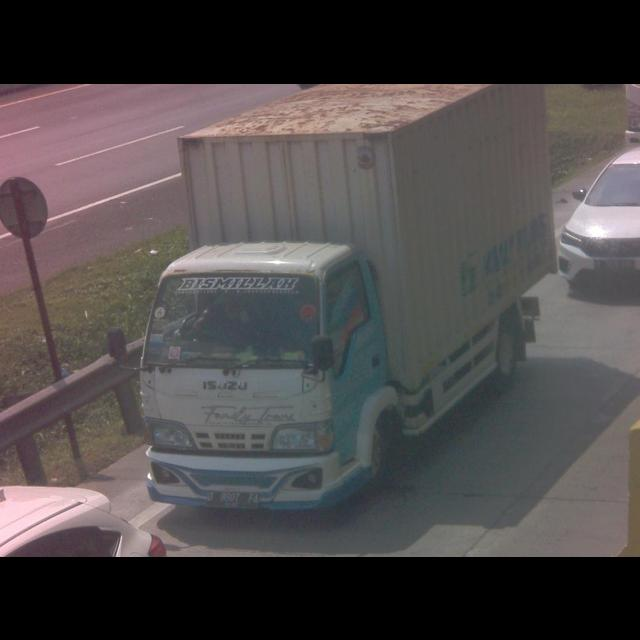plate: (203, 488, 261, 512)
